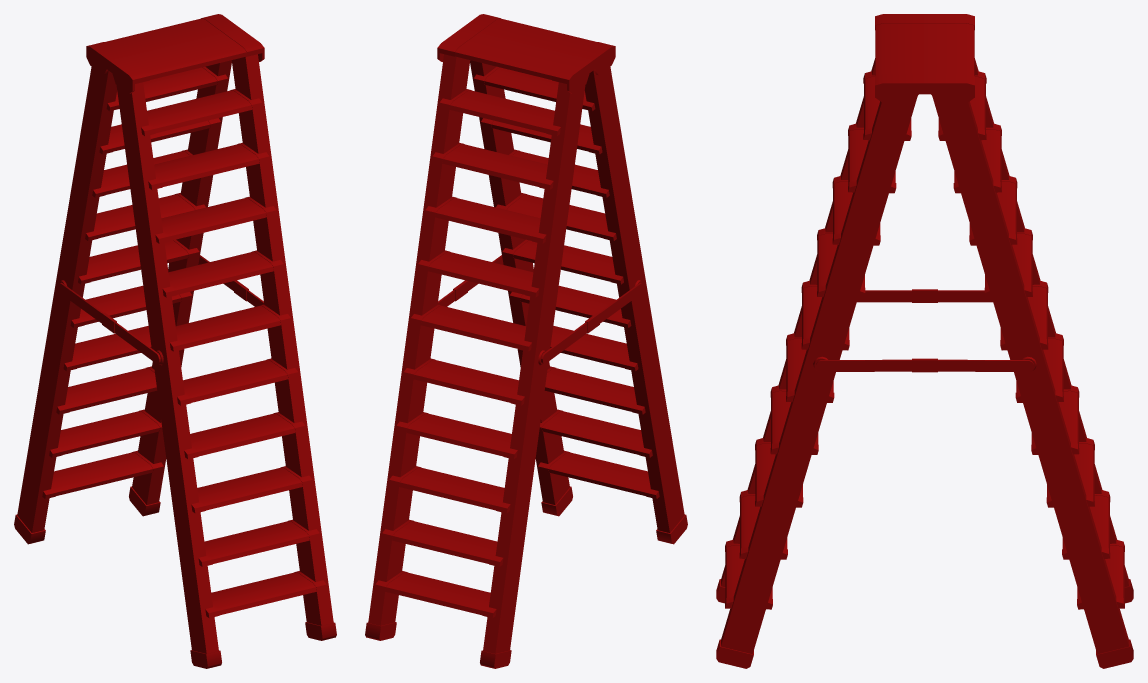
Rendered from S_Envi_Common_Ladder_01b.gltf.
3 views of the same model, side by side, from view 1: azimuth 30°, elevation 25°; view 2: azimuth 150°, elevation 25°; view 3: azimuth 270°, elevation 25° (orthographic). The views are drawn at different scales.
Visible parts, largest first — view 1: S_Envi_Common_Ladder_01b; view 2: S_Envi_Common_Ladder_01b; view 3: S_Envi_Common_Ladder_01b.
Boxes of the visible parts, box(x1,y1,x2,y2) form: S_Envi_Common_Ladder_01b: box(14, 14, 336, 668); S_Envi_Common_Ladder_01b: box(365, 14, 687, 668); S_Envi_Common_Ladder_01b: box(716, 14, 1133, 668).
Size of the model in its own units: 0.7661 by 2.95 by 1.9.
